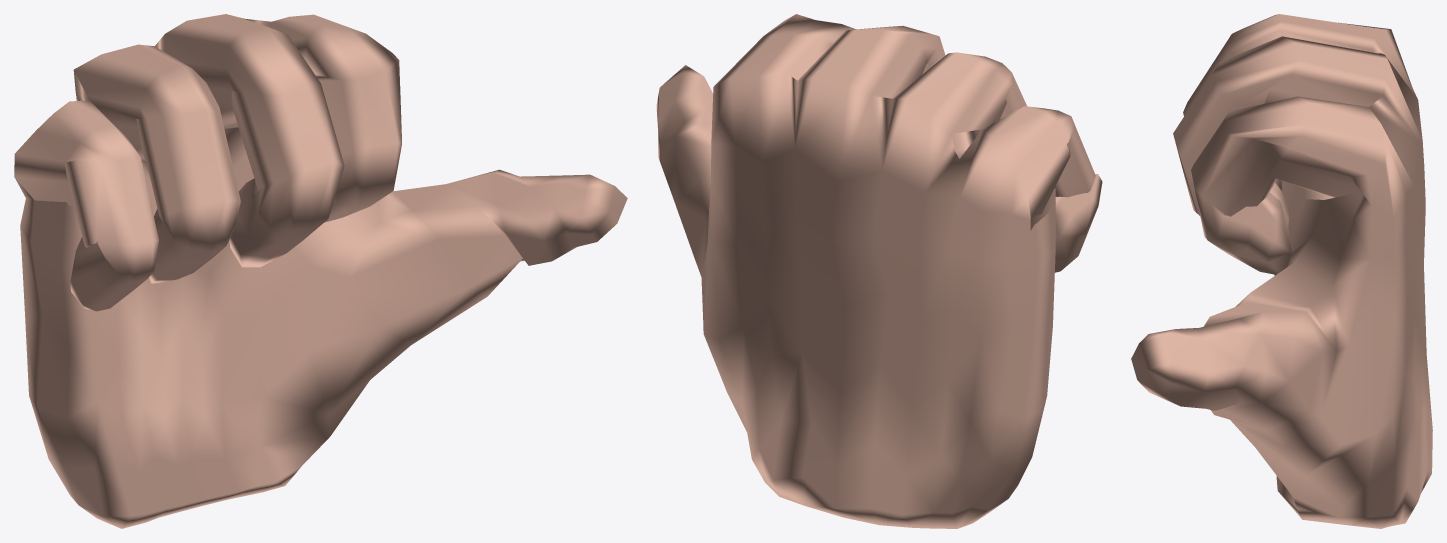
File: MAO_ONZE.obj
The picture shows the model from 3 angles, left to right: view 1: azimuth 30°, elevation 25°; view 2: azimuth 150°, elevation 25°; view 3: azimuth 270°, elevation 25°; orthographic projection. The views are drawn at different scales.
Visible parts, largest first — view 1: mao_dir:mao_dir; view 2: mao_dir:mao_dir; view 3: mao_dir:mao_dir.
Boxes of the visible parts, x1,y1,x2,y2 form: mao_dir:mao_dir: (14,14,627,528); mao_dir:mao_dir: (656,14,1102,528); mao_dir:mao_dir: (1131,14,1432,528).
Bounding box in the file's own units: 174 × 155 × 92.6.
